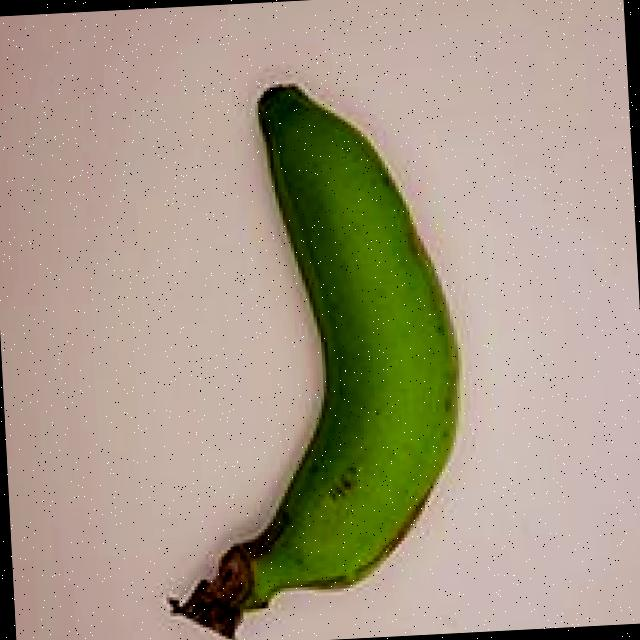Raw: (121, 39, 500, 640)
